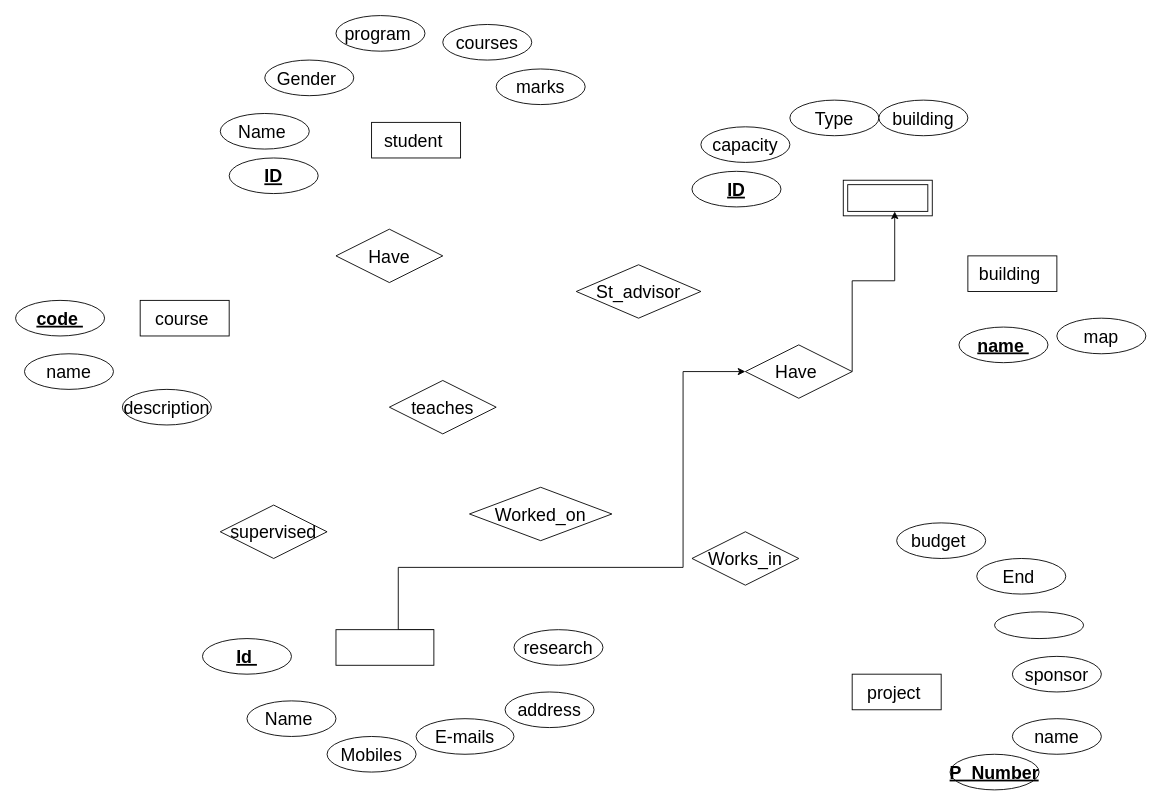
The diagram is 1161 pixels wide and 805 high, and some of its shapes have lost their labels. Each missing label, with the centre of its shape:
"professor" goes at pixel 384 647.
"room" goes at pixel 887 197.
"starting" goes at pixel 1039 625.
